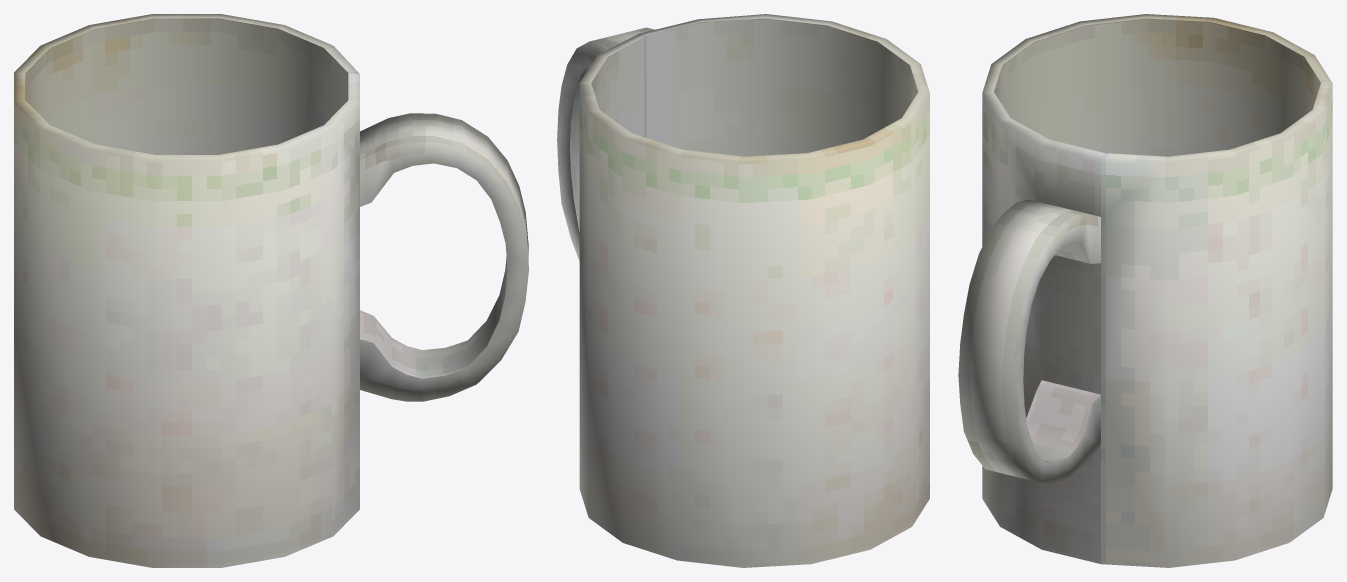
Rendered from item_mug.glb.
3 renders of one model, left to right at view 1: azimuth 30°, elevation 25°; view 2: azimuth 150°, elevation 25°; view 3: azimuth 270°, elevation 25°, orthographic.
Parts seen in each view (by area): view 1: Office_Mug; view 2: Office_Mug; view 3: Office_Mug.
Part boxes in pixels (left/top/right/bottom): Office_Mug: left=14, top=14, right=528, bottom=567; Office_Mug: left=557, top=14, right=929, bottom=567; Office_Mug: left=958, top=14, right=1332, bottom=567.
Bounding box in the file's own units: 0.1672 × 0.1544 × 0.1289.
Materials: 1 (1 with a texture image).
